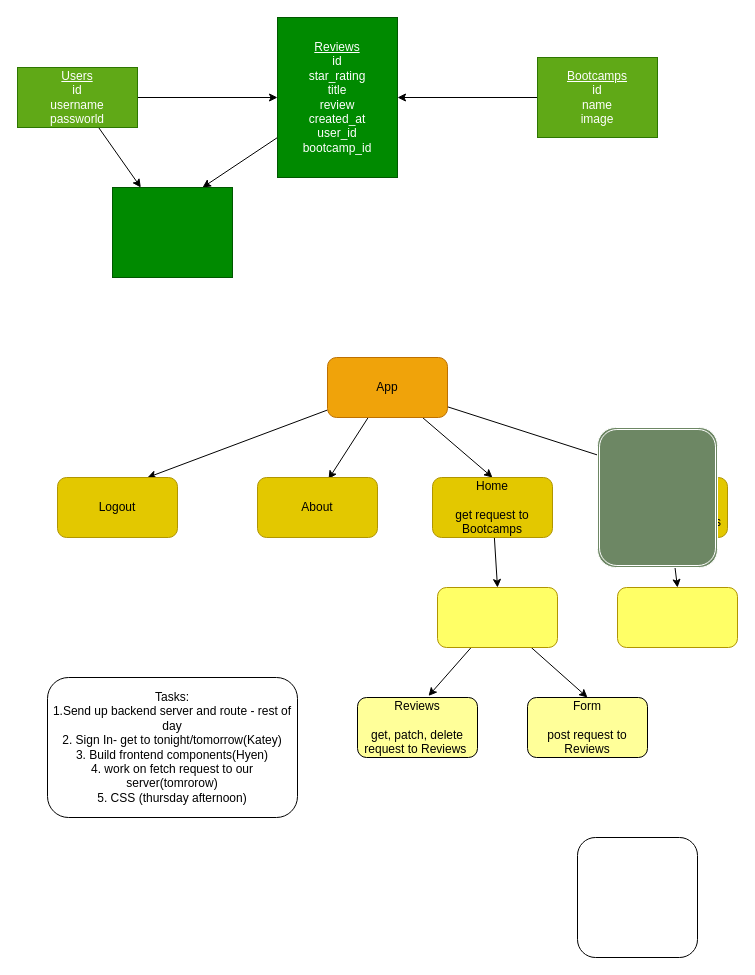
Some shapes in this 755 by 975 pixel diagram are drawn without their labels. The shapes that lost their labels are listed below. From the top down, each one's centre as x and y in pixels, then its label:
[172,232]: Comments id text user_id bootcamp_id
[657,497]: Routes /signup /login /logout /bootcamps /bootcamps/:id /bootcamps/:id/form
[497,617]: BootcampItem
[677,617]: SignUp post request to Users
[637,897]: Stretch goals: edit reviews advanced CSS add a new bootcamp
